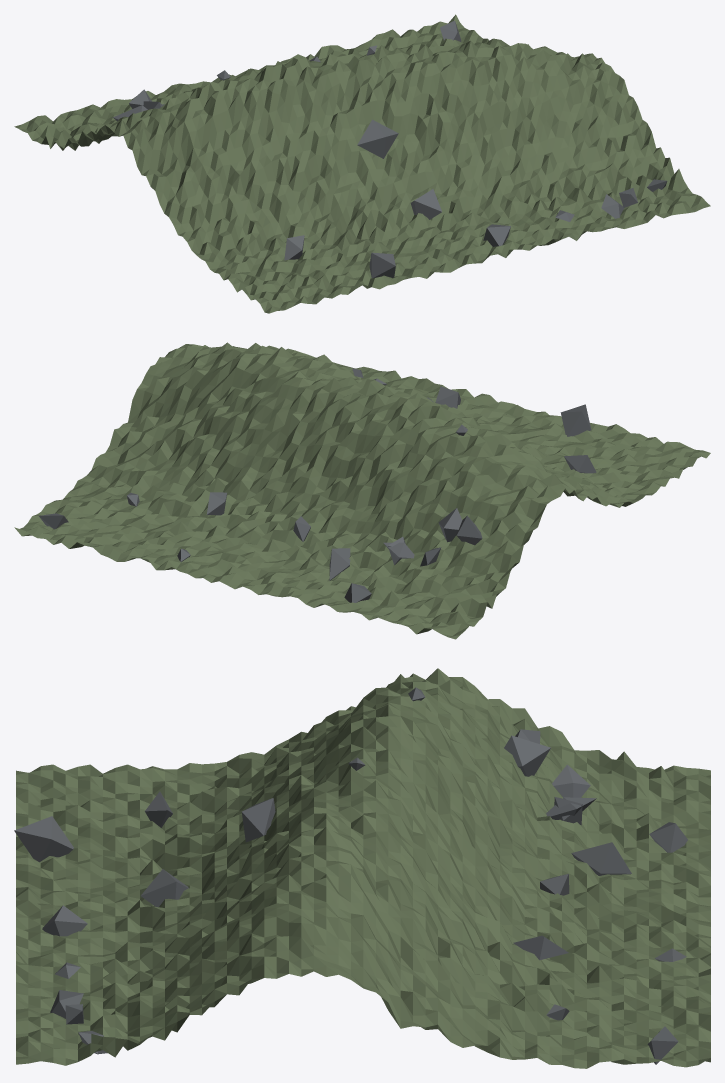
The model's file is worldforge_landscape_90211.obj.
3 views of the same model, one above another, from view 1: azimuth 30°, elevation 25°; view 2: azimuth 150°, elevation 25°; view 3: azimuth 270°, elevation 25° (orthographic). The views are drawn at different scales.
Visible parts, largest first — view 1: terrain, rock_18, rock_22, rock_1; view 2: terrain, rock_22, rock_7, rock_16, rock_4; view 3: terrain, rock_22, rock_7, rock_16, rock_18, rock_1, rock_13, rock_10, rock_11, rock_12.
Part boxes in pixels (x1=…): terrain: x1=14, y1=14, x2=710, y2=313; rock_18: x1=357, y1=119, x2=398, y2=158; rock_22: x1=369, y1=252, x2=395, y2=278; rock_1: x1=410, y1=189, x2=441, y2=219; terrain: x1=14, y1=342, x2=710, y2=639; rock_22: x1=560, y1=404, x2=591, y2=436; rock_7: x1=329, y1=548, x2=350, y2=580; rock_16: x1=438, y1=508, x2=462, y2=542; rock_4: x1=456, y1=515, x2=482, y2=545; terrain: x1=16, y1=668, x2=710, y2=1068; rock_22: x1=14, y1=816, x2=73, y2=862; rock_7: x1=571, y1=842, x2=631, y2=875; rock_16: x1=504, y1=735, x2=550, y2=776; rock_18: x1=241, y1=798, x2=275, y2=842; rock_1: x1=141, y1=869, x2=188, y2=907; rock_13: x1=42, y1=905, x2=87, y2=936; rock_10: x1=552, y1=764, x2=590, y2=797; rock_11: x1=649, y1=822, x2=687, y2=852; rock_12: x1=513, y1=935, x2=568, y2=960.
Bounding box in the file's own units: 30 × 8.4 × 30.09.
